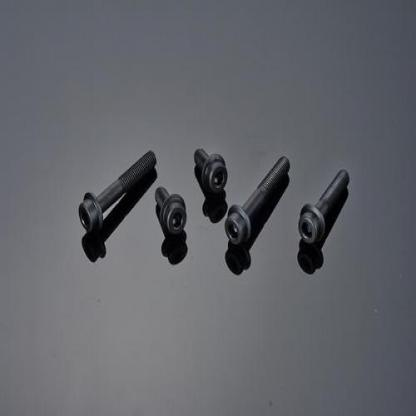FOD: (77, 148, 159, 237), (224, 155, 290, 248), (298, 167, 351, 244), (193, 147, 230, 199), (154, 185, 190, 237)
